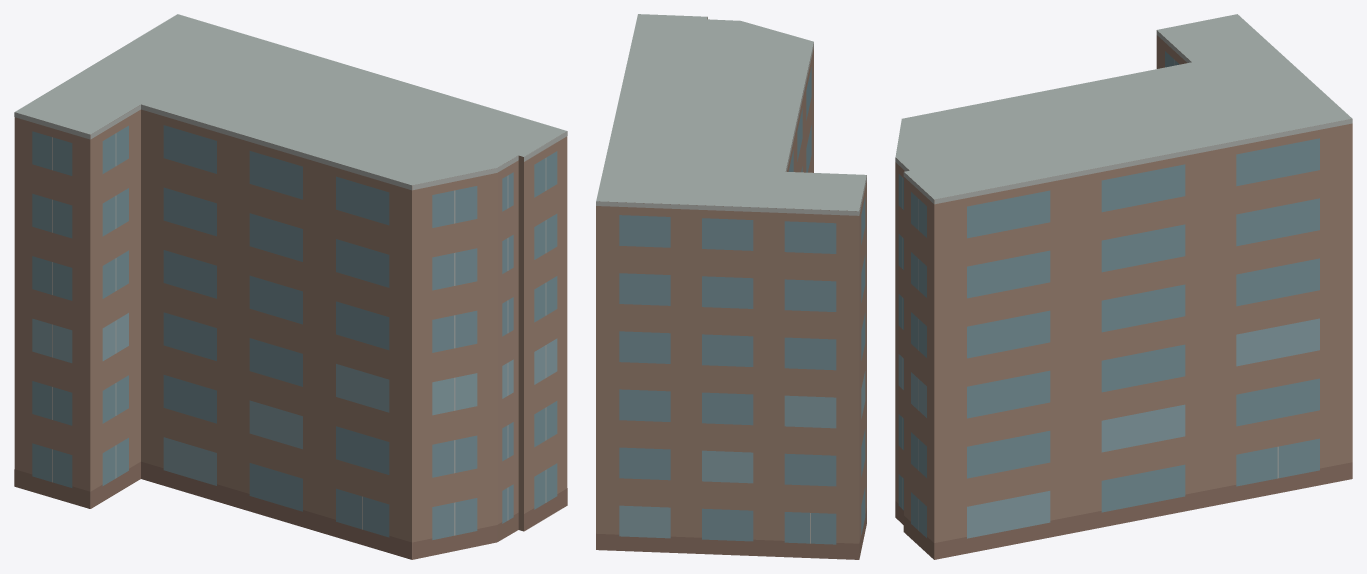
Rendered from survey-upis-32748985.glb.
3 renders of one model, left to right at view 1: azimuth 30°, elevation 25°; view 2: azimuth 150°, elevation 25°; view 3: azimuth 270°, elevation 25°, orthographic. The views are drawn at different scales.
Visible parts, largest first — view 1: survey-upis-32748985.tmp; view 2: survey-upis-32748985.tmp; view 3: survey-upis-32748985.tmp.
Part boxes in pixels (bbox=[...]): survey-upis-32748985.tmp: bbox=[14, 14, 567, 559]; survey-upis-32748985.tmp: bbox=[596, 14, 866, 559]; survey-upis-32748985.tmp: bbox=[895, 14, 1352, 559].
Bounding box in the file's own units: 20.22 × 18.3 × 21.05.
